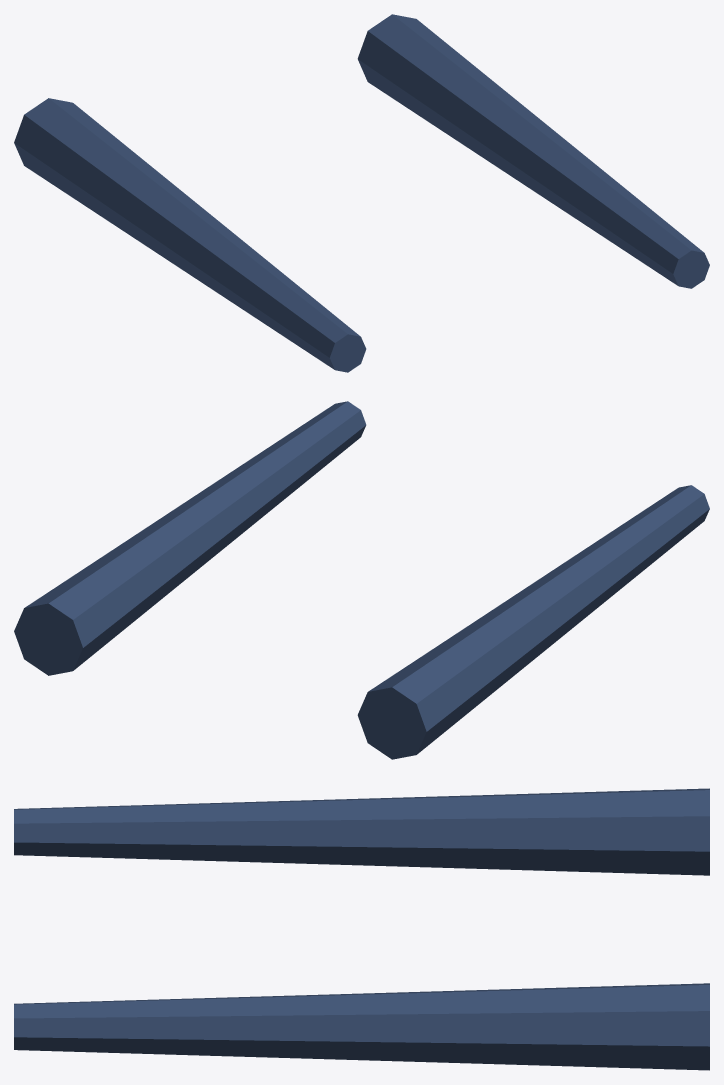
Rendered from Level2BossElectricAsset.fbx.
3 views of the same model, one above another, from view 1: azimuth 30°, elevation 25°; view 2: azimuth 150°, elevation 25°; view 3: azimuth 270°, elevation 25° (orthographic). The views are drawn at different scales.
Parts seen in each view (by area): view 1: Level2BossElectric; view 2: Level2BossElectric; view 3: Level2BossElectric.
Boxes of the visible parts, x1,y1,x2,y2 form: Level2BossElectric: (14, 14, 709, 372); Level2BossElectric: (14, 401, 709, 759); Level2BossElectric: (14, 788, 709, 1070).
Bounding box in the file's own units: 239 × 40 × 300.
